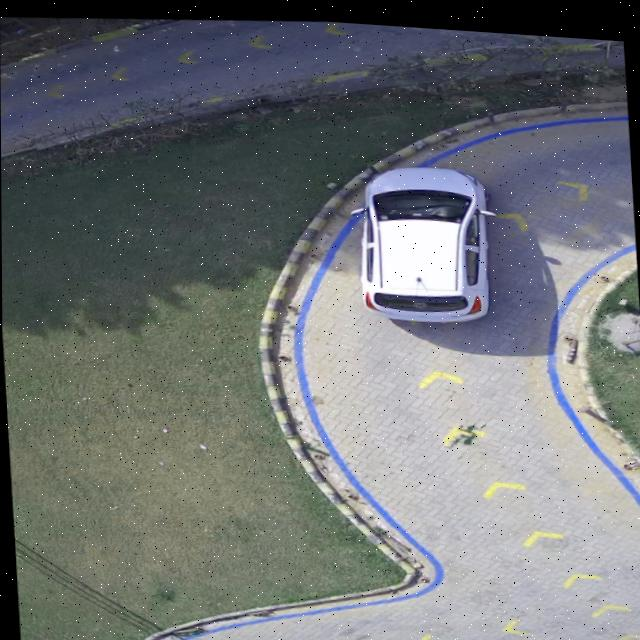car: (360, 162, 495, 315)
